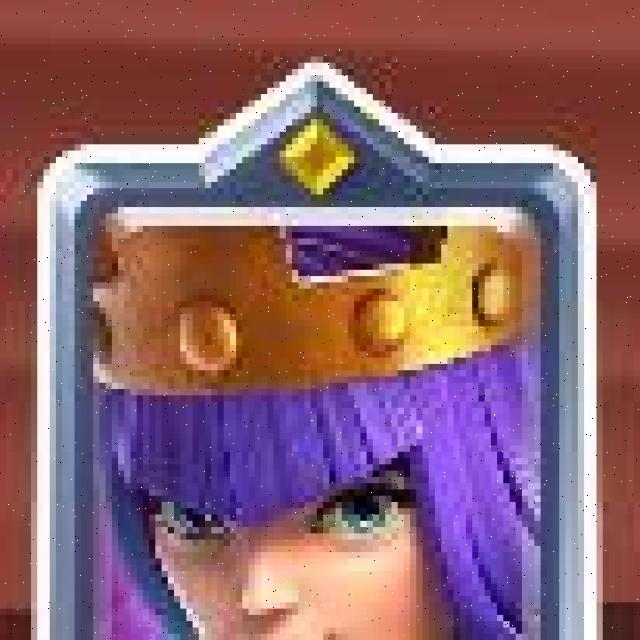Archer_Queen: (36, 56, 604, 640)
